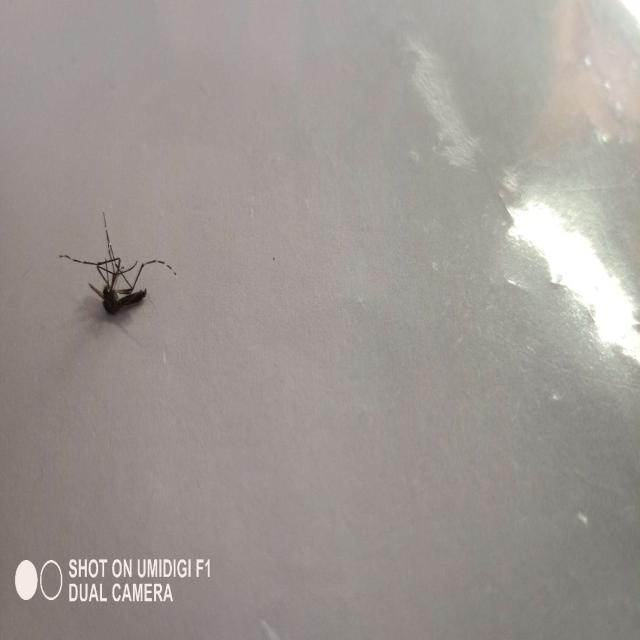albopictus: (59, 202, 177, 322)
